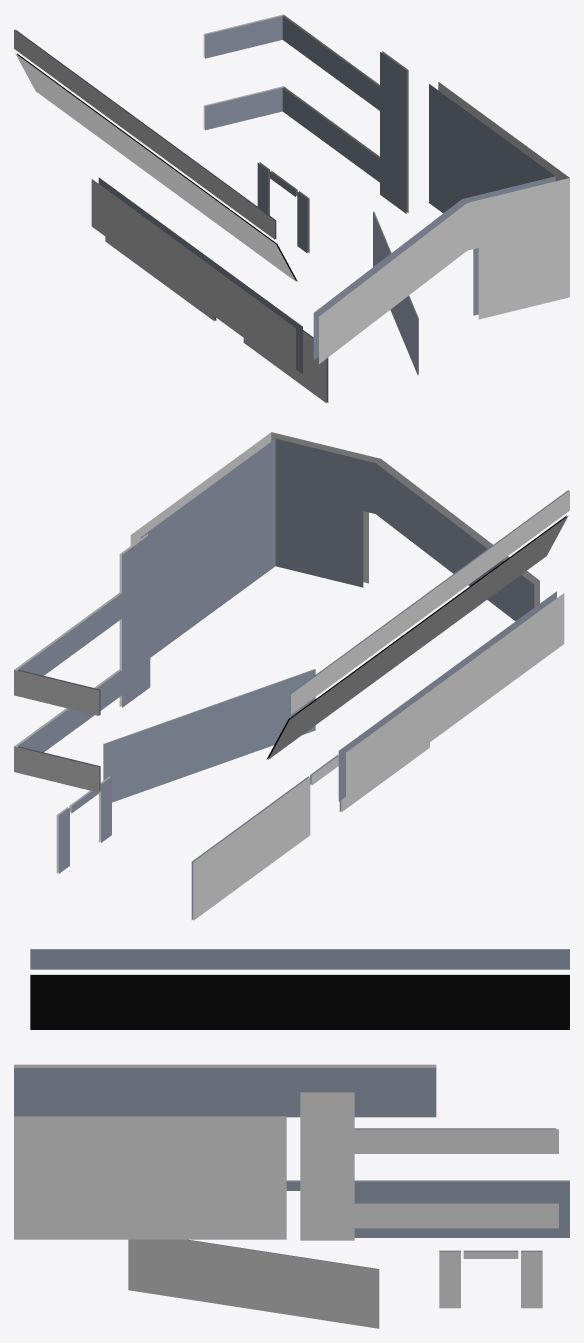
File: Glass.fbx
3 renders of one model, top to bottom at view 1: azimuth 30°, elevation 25°; view 2: azimuth 150°, elevation 25°; view 3: azimuth 270°, elevation 25°, orthographic. The views are drawn at different scales.
Visible parts, largest first — view 1: Glass; view 2: Glass; view 3: Glass.
Boxes of the visible parts, left/top/right/bottom form: Glass: left=14, top=14, right=569, bottom=403; Glass: left=14, top=432, right=569, bottom=920; Glass: left=14, top=949, right=569, bottom=1328.
Size of the model in its own units: 1258 by 990 by 2040.
